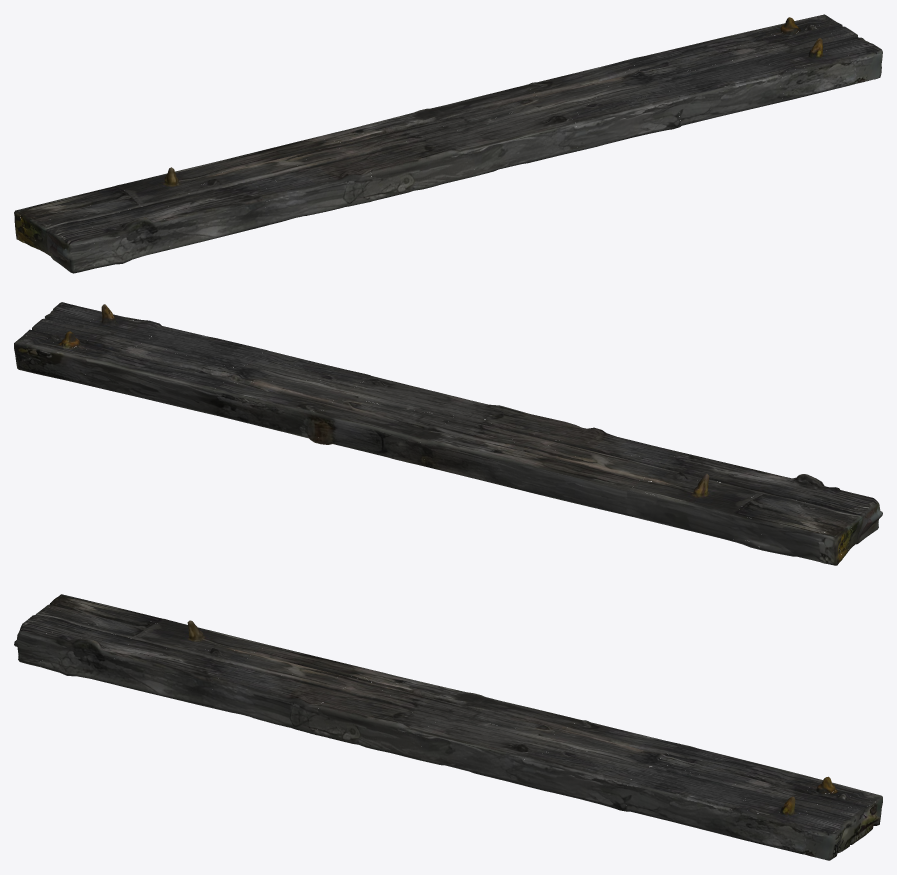
File: driftwood.glb
3 views of the same model, one above another, from view 1: azimuth 30°, elevation 25°; view 2: azimuth 150°, elevation 25°; view 3: azimuth 330°, elevation 25° (orthographic).
Visible parts, largest first — view 1: tripo_node_c403f0b7-ca77-435a-ac0f-0823e9300da3; view 2: tripo_node_c403f0b7-ca77-435a-ac0f-0823e9300da3; view 3: tripo_node_c403f0b7-ca77-435a-ac0f-0823e9300da3.
Part boxes in pixels (<box>): tripo_node_c403f0b7-ca77-435a-ac0f-0823e9300da3: <box>14,14,882,273</box>; tripo_node_c403f0b7-ca77-435a-ac0f-0823e9300da3: <box>14,302,882,565</box>; tripo_node_c403f0b7-ca77-435a-ac0f-0823e9300da3: <box>14,594,882,860</box>.
Bounding box in the file's own units: 0.9999 × 0.0589 × 0.1192.
1 material, 1 textured.
